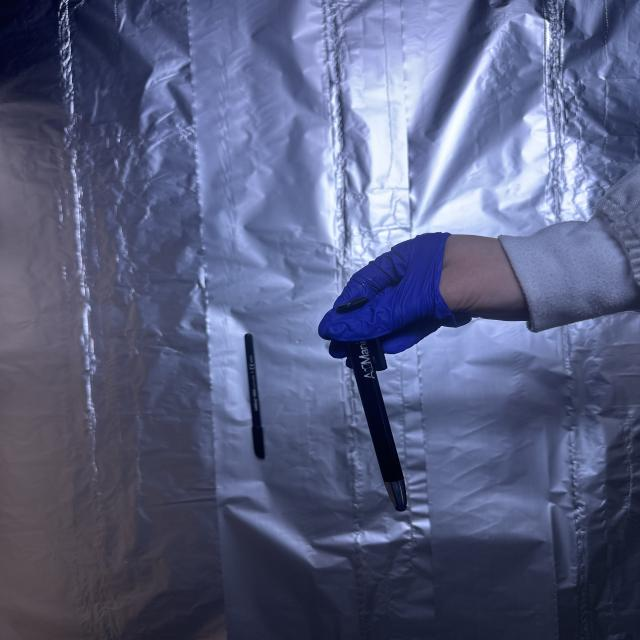glove_partial: (314, 231, 536, 361)
